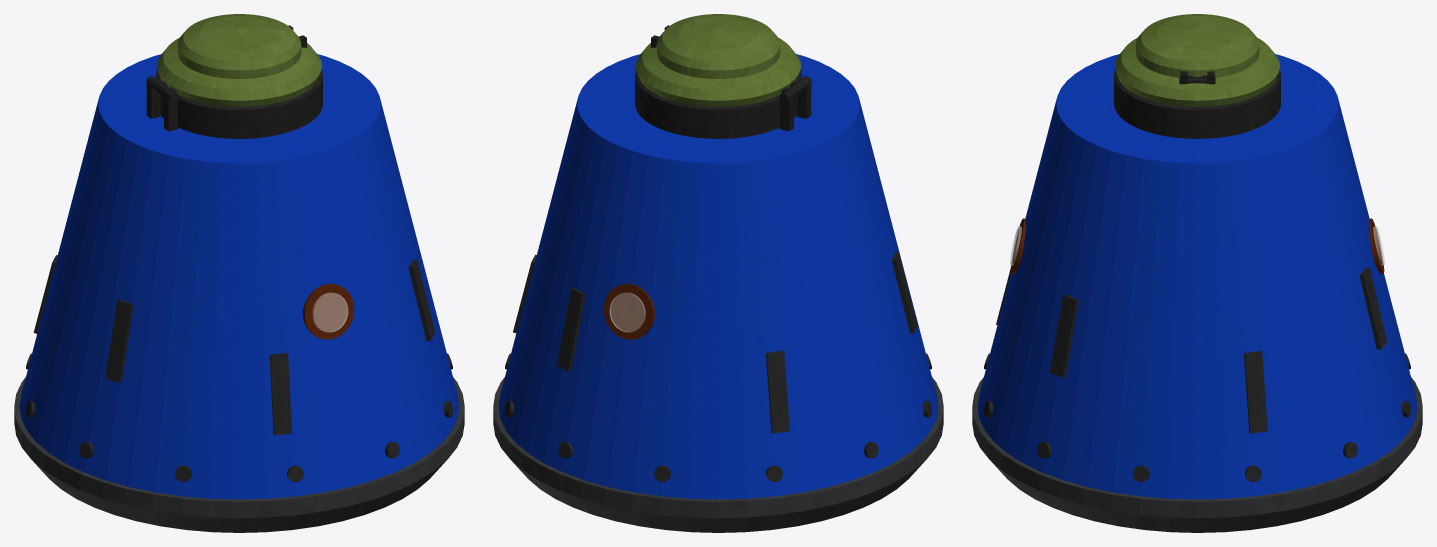
File: Astronomy_Return_capsule__0042.glb
3 views of the same model, side by side, from view 1: azimuth 30°, elevation 25°; view 2: azimuth 150°, elevation 25°; view 3: azimuth 270°, elevation 25° (orthographic).
Parts seen in each view (by area): view 1: capsule::bell_body, shield::heat_shield, nose_cover::nose_shell, hatch::lid_shell, capsule::hatch_collar, capsule::porthole_rim_1, capsule::docking_ring, capsule::scorch_streak_4, capsule::scorch_streak_3, capsule::porthole_glass_1, capsule::scorch_streak_5; view 2: capsule::bell_body, shield::heat_shield, nose_cover::nose_shell, hatch::lid_shell, capsule::hatch_collar, capsule::porthole_rim_0, capsule::docking_ring, capsule::scorch_streak_2, capsule::scorch_streak_1, capsule::porthole_glass_0, capsule::scorch_streak_3; view 3: capsule::bell_body, shield::heat_shield, nose_cover::nose_shell, hatch::lid_shell, capsule::hatch_collar, capsule::docking_ring, capsule::scorch_streak_0, capsule::scorch_streak_5, capsule::scorch_streak_1.
Part boxes in pixels (x1,y1,x2,y2): capsule::bell_body: (19, 54, 459, 499); shield::heat_shield: (14, 377, 464, 532); nose_cover::nose_shell: (177, 14, 301, 78); hatch::lid_shell: (157, 37, 321, 106); capsule::hatch_collar: (160, 83, 322, 138); capsule::porthole_rim_1: (303, 283, 354, 339); capsule::docking_ring: (156, 69, 322, 116); capsule::scorch_streak_4: (269, 353, 291, 435); capsule::scorch_streak_3: (105, 299, 133, 382); capsule::porthole_glass_1: (312, 293, 348, 332); capsule::scorch_streak_5: (408, 259, 435, 340); capsule::bell_body: (498, 54, 938, 499); shield::heat_shield: (493, 377, 943, 532); nose_cover::nose_shell: (656, 14, 780, 78); hatch::lid_shell: (636, 37, 800, 106); capsule::hatch_collar: (635, 82, 797, 138); capsule::porthole_rim_0: (603, 283, 654, 339); capsule::docking_ring: (635, 69, 801, 116); capsule::scorch_streak_2: (766, 350, 789, 433); capsule::scorch_streak_1: (556, 288, 585, 371); capsule::porthole_glass_0: (609, 293, 645, 332); capsule::scorch_streak_3: (892, 252, 917, 333); capsule::bell_body: (977, 54, 1417, 499); shield::heat_shield: (972, 377, 1422, 532); nose_cover::nose_shell: (1135, 14, 1259, 77); hatch::lid_shell: (1115, 37, 1279, 106); capsule::hatch_collar: (1114, 83, 1280, 138); capsule::docking_ring: (1114, 69, 1280, 116); capsule::scorch_streak_0: (1243, 351, 1267, 433); capsule::scorch_streak_5: (1049, 294, 1078, 377); capsule::scorch_streak_1: (1359, 267, 1387, 349).
Bounding box in the file's own units: 2.13 × 2.3 × 2.13.
9 materials, 9 textured.
